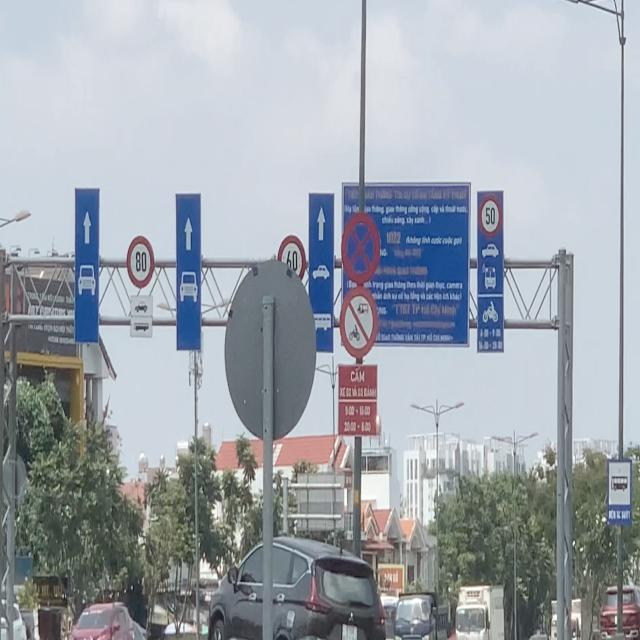Ben xe buyt: (606, 456, 633, 526)
Cam con lai: (339, 287, 377, 357)
Cam dung va do: (338, 208, 382, 286)
Toc do toi da: (124, 233, 156, 290), (278, 235, 306, 282), (479, 195, 501, 238)
